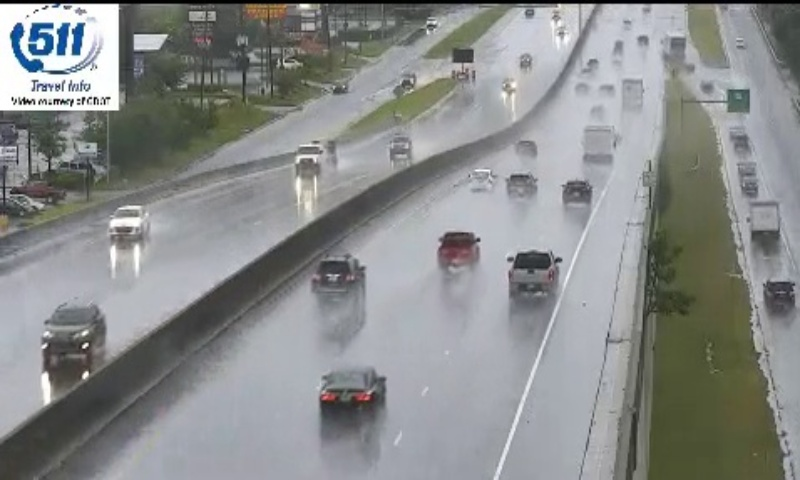car: (319, 367, 384, 420), (508, 249, 558, 295), (311, 255, 364, 295), (436, 232, 478, 266), (507, 171, 537, 198), (562, 180, 592, 205)
